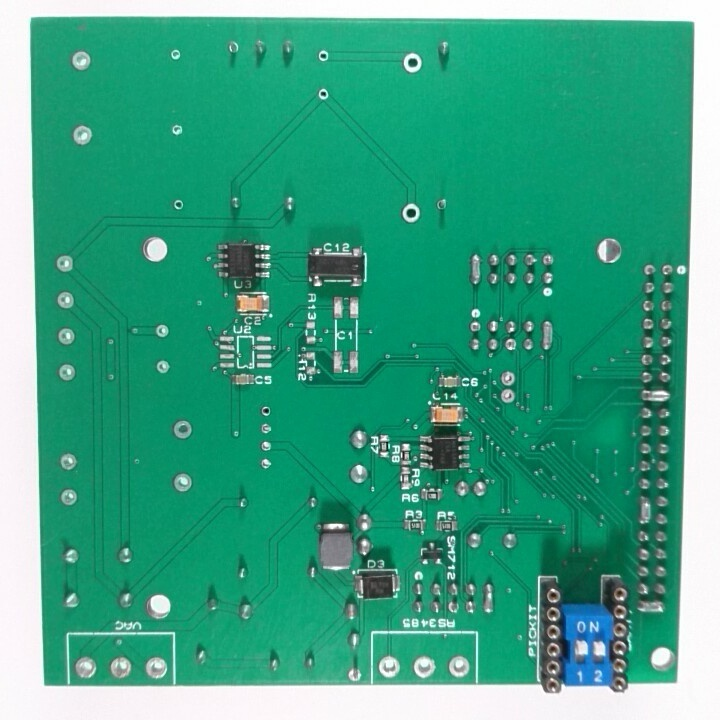F: (445, 651, 475, 680), (70, 653, 99, 681), (142, 653, 170, 682), (105, 653, 133, 681), (410, 652, 437, 680), (376, 650, 401, 680), (170, 468, 195, 497), (401, 46, 424, 77), (70, 121, 95, 149), (399, 199, 422, 226), (55, 360, 80, 384), (58, 484, 81, 510), (70, 47, 92, 74), (53, 287, 76, 312), (54, 323, 76, 349), (57, 449, 79, 473), (170, 418, 193, 440), (54, 252, 76, 274), (497, 368, 518, 387), (153, 320, 170, 343), (346, 663, 364, 684), (445, 595, 461, 618), (499, 387, 518, 406), (224, 38, 242, 58), (434, 194, 451, 213), (258, 454, 275, 473), (315, 46, 332, 64), (540, 251, 557, 269), (502, 335, 519, 352), (155, 357, 171, 375), (659, 298, 675, 314), (259, 420, 273, 438), (168, 122, 184, 137), (257, 404, 273, 419), (259, 439, 274, 455), (640, 351, 655, 367), (172, 196, 186, 213), (316, 85, 330, 101), (169, 46, 182, 63), (661, 262, 674, 278), (469, 319, 482, 335)
P: (539, 316, 558, 353), (637, 386, 676, 404), (467, 251, 484, 289), (481, 578, 497, 617), (636, 492, 653, 527), (635, 598, 667, 615)
